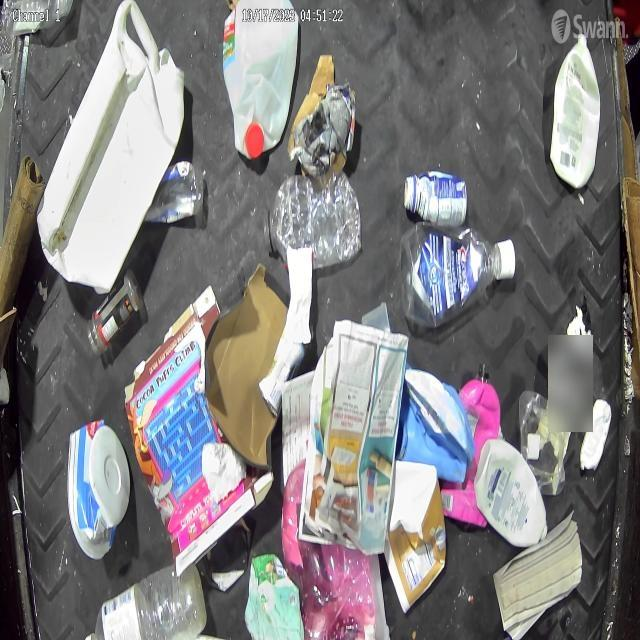milk_jug: (35, 0, 186, 296), (223, 8, 300, 160)
plastic_bottle: (402, 226, 515, 326), (264, 174, 362, 269), (84, 566, 208, 640)
